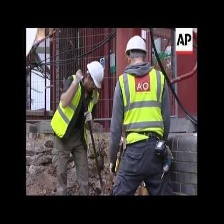helmet: (125, 35, 151, 58), (86, 61, 104, 93)
person: (108, 35, 175, 197), (56, 61, 105, 184)
vest: (119, 70, 167, 146), (54, 73, 95, 148)
